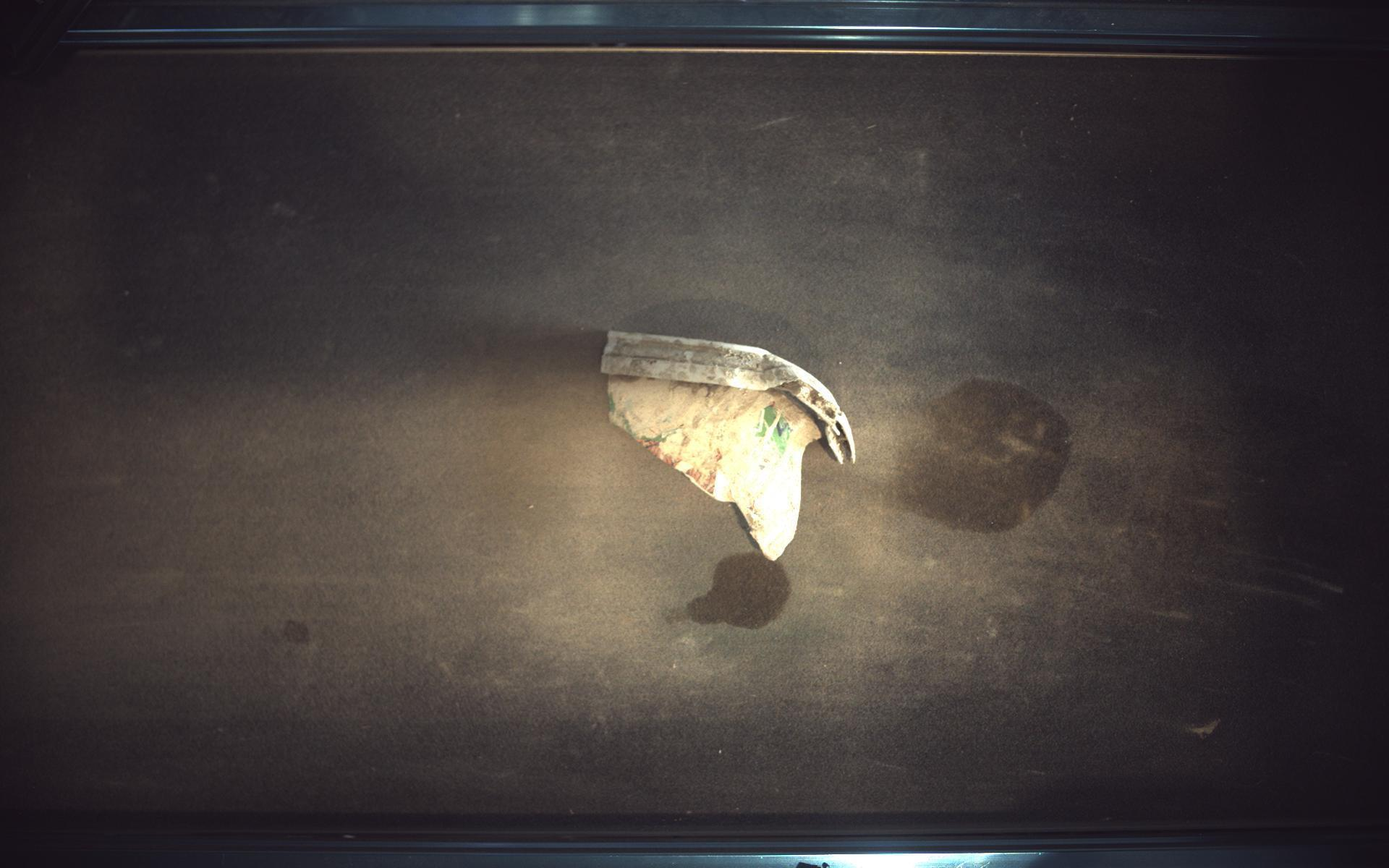plastic: (602, 331, 857, 561)
